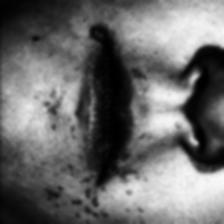Toxin: (43, 175, 113, 224), (32, 86, 66, 133), (122, 146, 149, 192), (88, 20, 108, 44)
